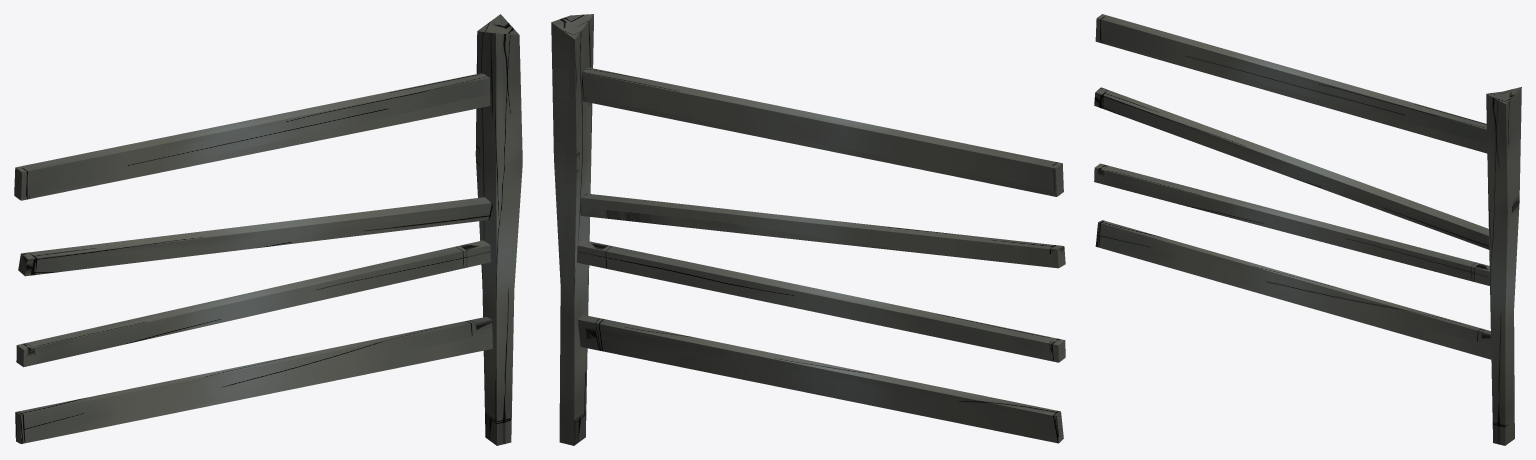
Rendered from Fence3.fbx.
3 renders of one model, left to right at view 1: azimuth 30°, elevation 25°; view 2: azimuth 150°, elevation 25°; view 3: azimuth 330°, elevation 25°, orthographic. The views are drawn at different scales.
Parts seen in each view (by area): view 1: fence_proper, fence_proper3, fence_beam, fence_proper2, fence_proper1; view 2: fence_proper, fence_proper3, fence_beam, fence_proper2, fence_proper1; view 3: fence_proper, fence_proper3, fence_beam, fence_proper1, fence_proper2.
Part boxes in pixels (x1,y1,x2,y2): fence_proper: (14, 73, 490, 200); fence_proper3: (15, 317, 492, 443); fence_beam: (475, 14, 522, 445); fence_proper2: (16, 240, 490, 367); fence_proper1: (18, 197, 492, 276); fence_proper: (582, 67, 1063, 196); fence_proper3: (578, 315, 1063, 443); fence_beam: (551, 14, 593, 445); fence_proper2: (577, 240, 1065, 362); fence_proper1: (580, 193, 1065, 268); fence_proper: (1095, 14, 1487, 153); fence_proper3: (1095, 220, 1491, 359); fence_beam: (1486, 87, 1521, 445); fence_proper1: (1094, 87, 1489, 249); fence_proper2: (1094, 163, 1489, 285).
Size of the model in its own units: 234 by 188 by 15.88.
